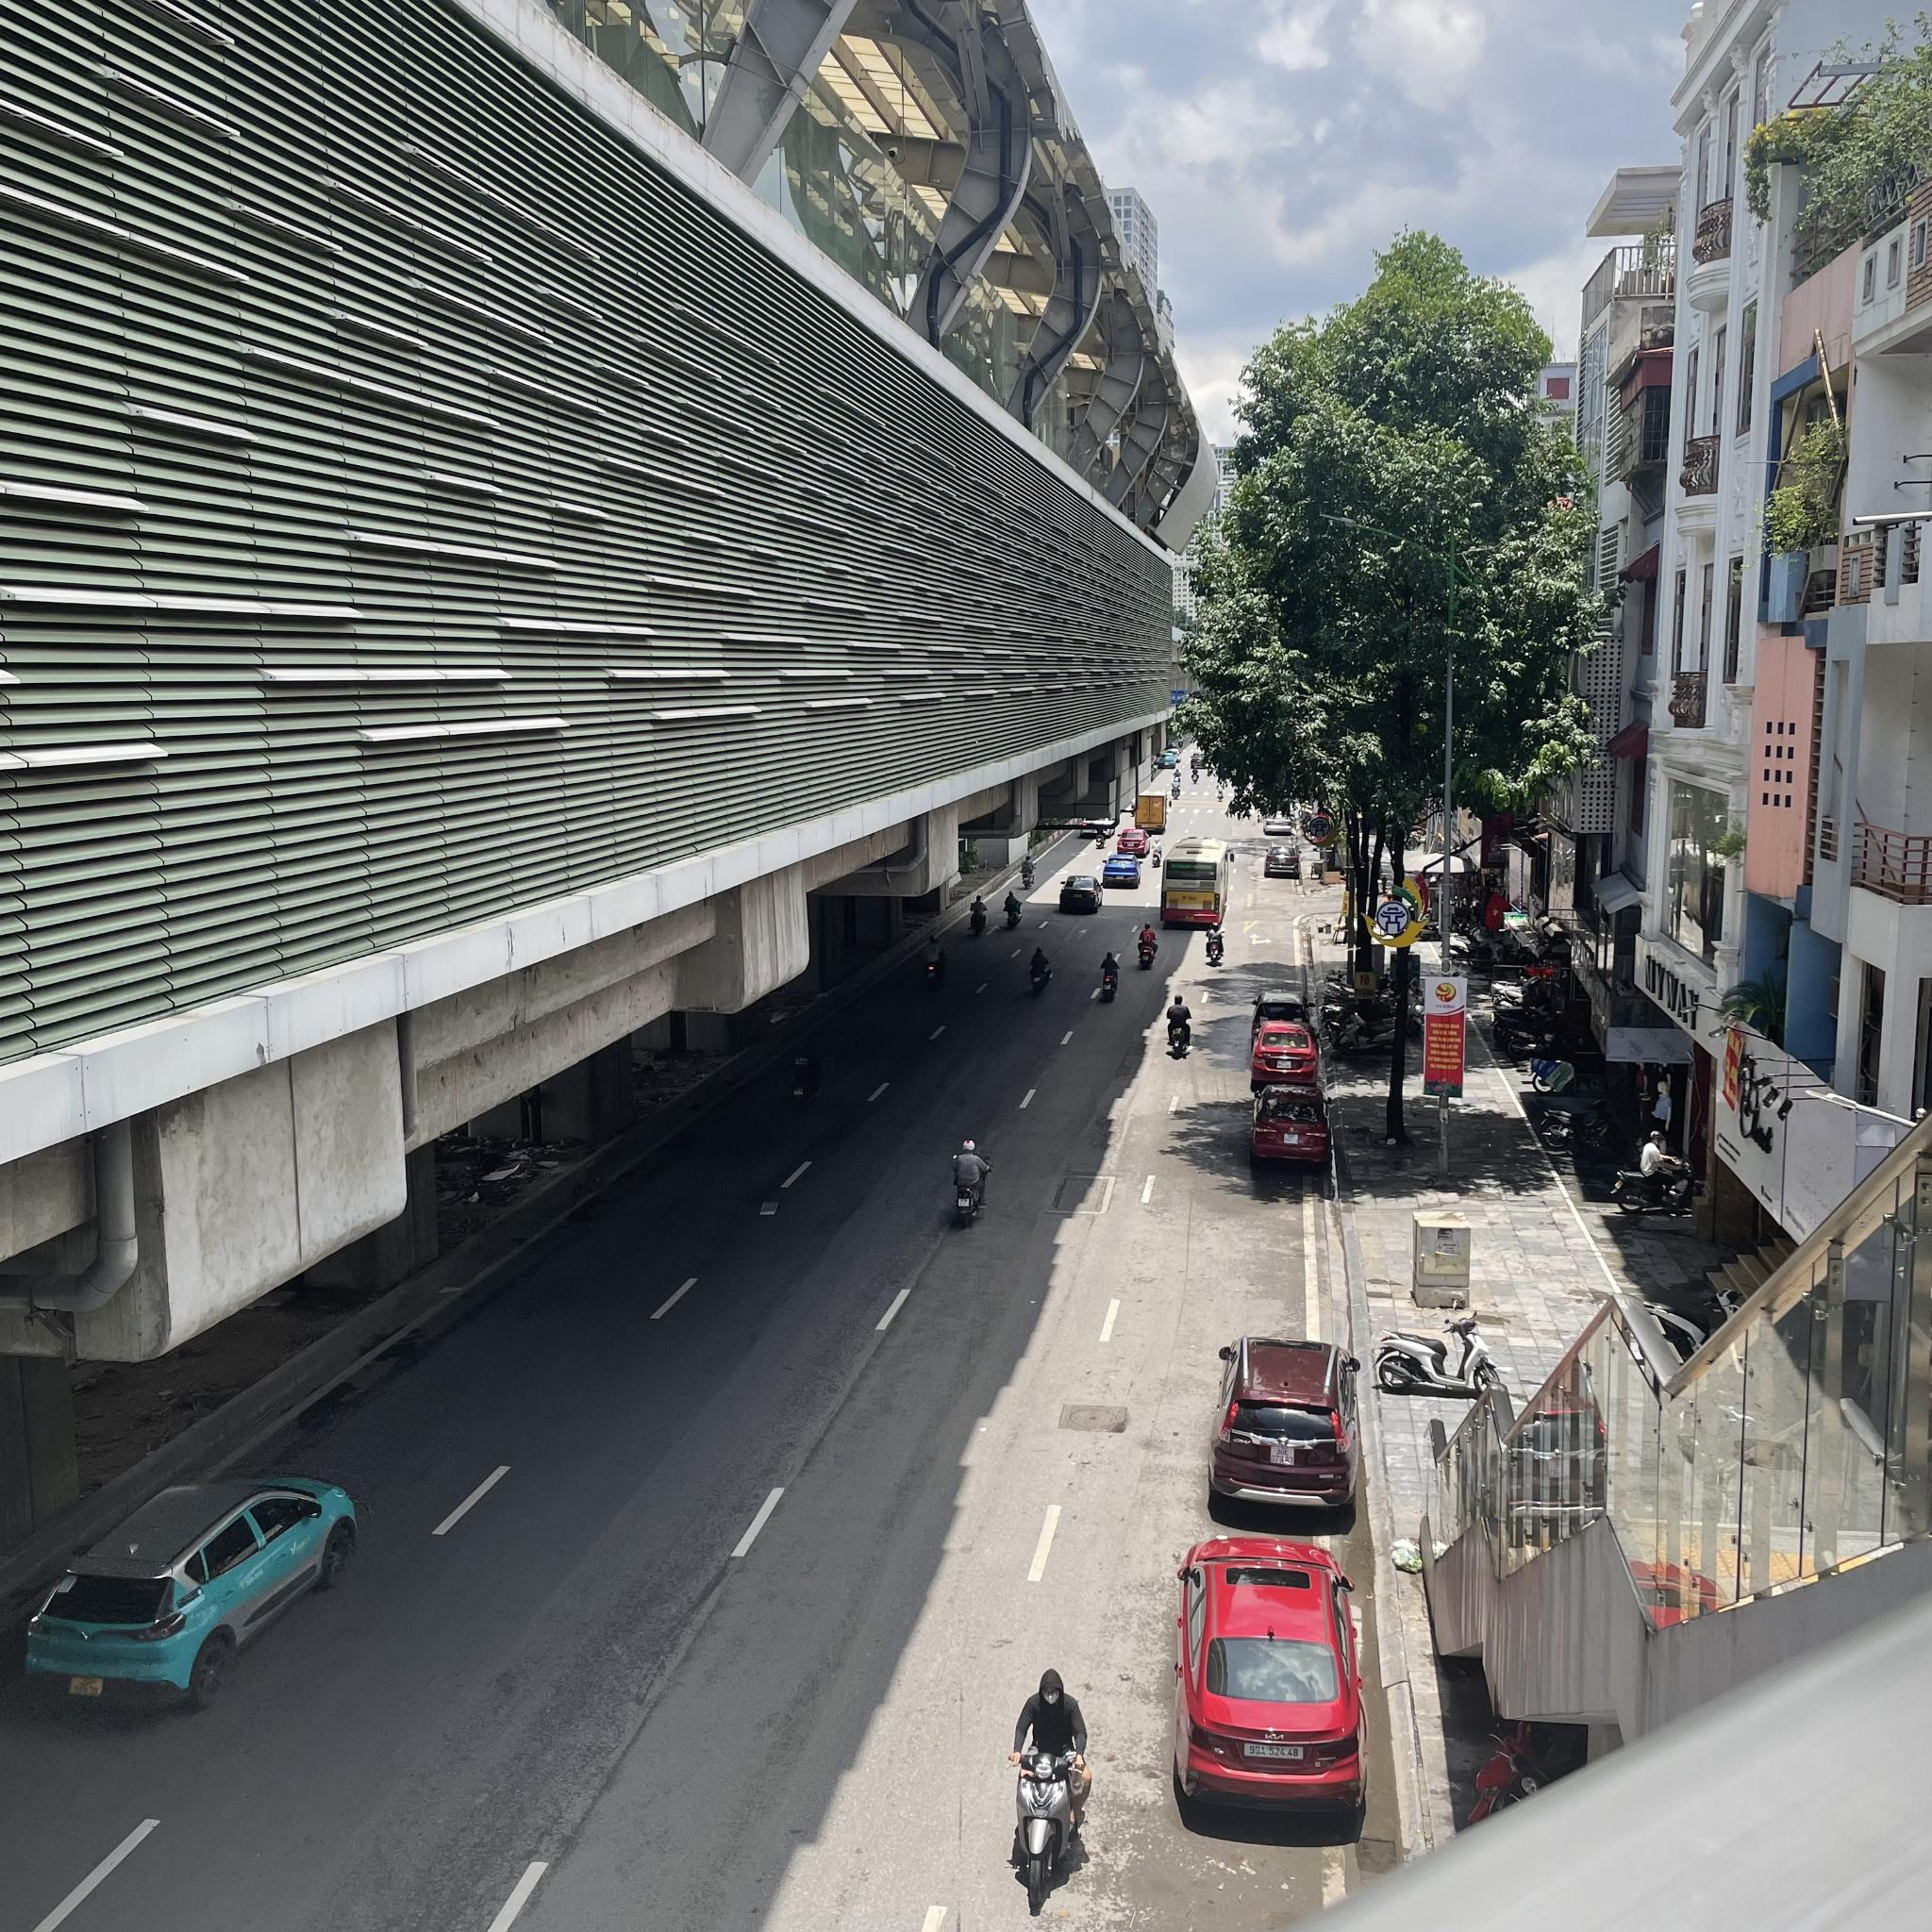car: (1171, 1536, 1371, 1824), (1208, 1332, 1361, 1513), (1249, 1081, 1334, 1168), (1159, 835, 1233, 927), (1249, 1019, 1320, 1088), (1251, 987, 1316, 1039), (1058, 874, 1102, 915), (1132, 789, 1171, 832), (1263, 842, 1300, 879), (1102, 855, 1143, 886), (1116, 828, 1152, 856)
motobike: (1005, 1668, 1092, 1913), (1371, 1311, 1504, 1405), (950, 1139, 993, 1223), (1166, 994, 1194, 1056), (920, 934, 950, 987), (1026, 947, 1053, 998), (1136, 922, 1159, 970), (1099, 950, 1120, 1001), (1203, 922, 1224, 964), (1003, 890, 1023, 929), (970, 895, 987, 936), (1017, 855, 1035, 890), (1152, 837, 1164, 869)
